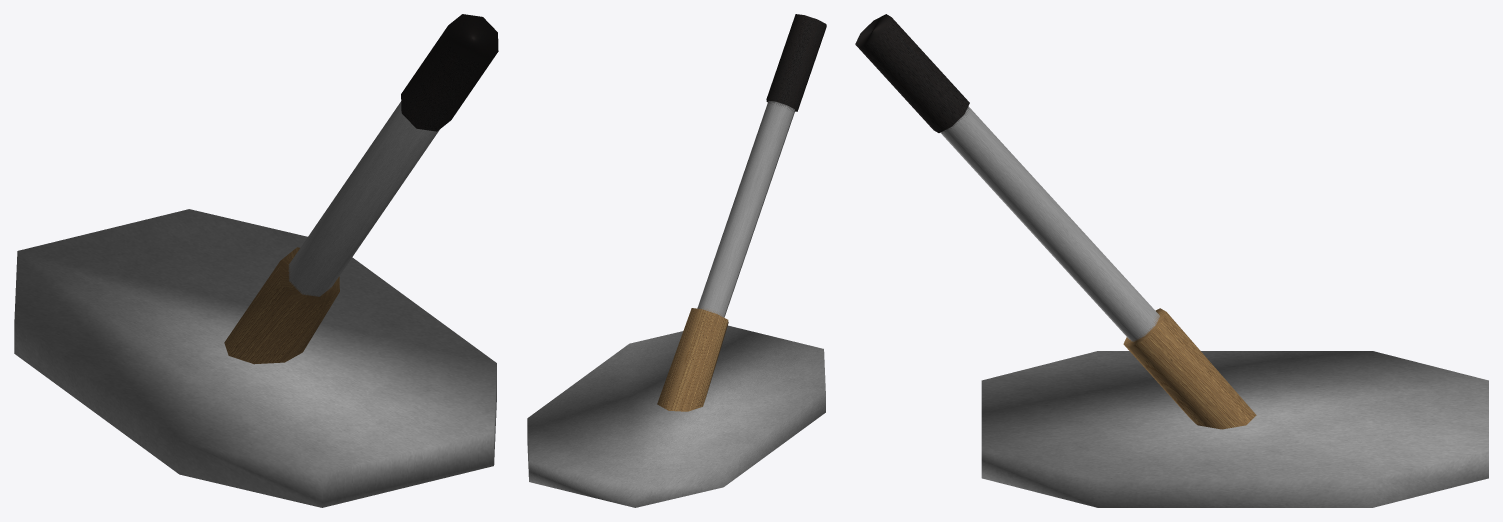
The model's file is Levier.fbx.
The picture shows the model from 3 angles, left to right: view 1: azimuth 30°, elevation 25°; view 2: azimuth 150°, elevation 25°; view 3: azimuth 270°, elevation 25°; orthographic projection. The views are drawn at different scales.
Visible parts, largest first — view 1: Cylinder; view 2: Cylinder; view 3: Cylinder.
Part boxes in pixels (bbox=[...]): Cylinder: bbox=[14, 14, 498, 507]; Cylinder: bbox=[527, 14, 826, 507]; Cylinder: bbox=[855, 14, 1488, 507].
Size of the model in its own units: 120 by 186 by 250.
1 material, 1 textured.
